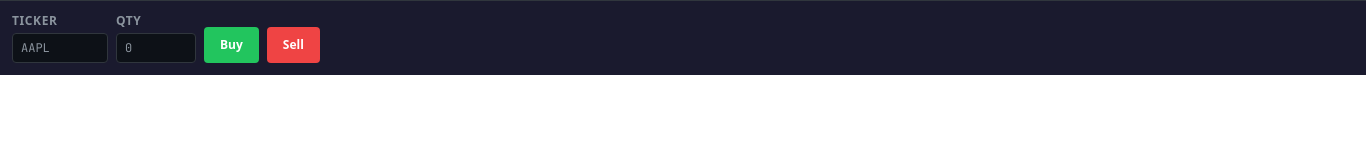
Scenario: TradeBar › Test T-4-01: empty ticker blocks fetch and shows inline error
In the number field labelled "Qty": point(156, 48) [116,33,196,63], type "5"
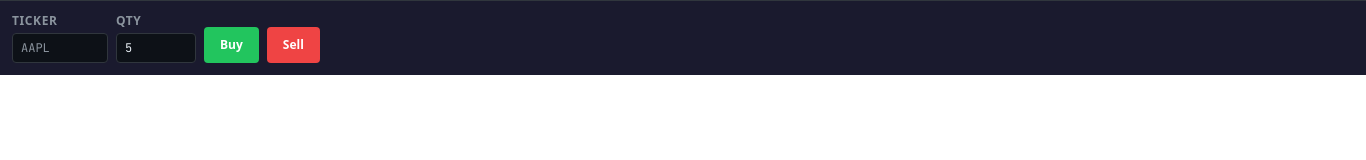
Click the button "Buy": point(231, 45) [204,27,259,63]
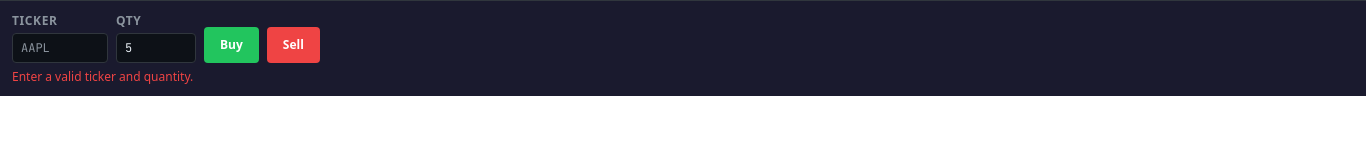
expect the text "Enter a valid ticker and quantity." is shown: met, box [12,68,193,85]
